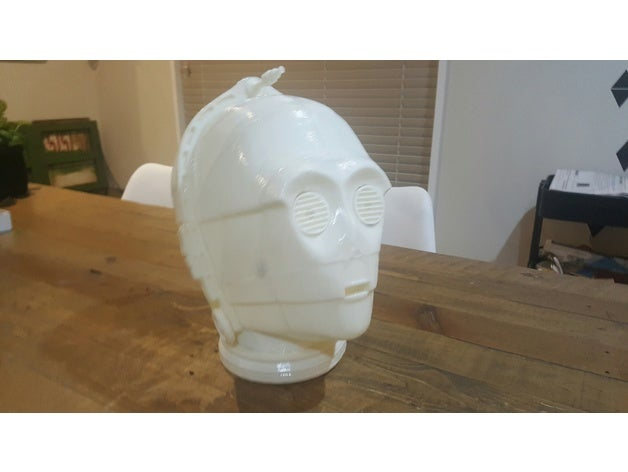Good: (155, 69, 417, 396)
